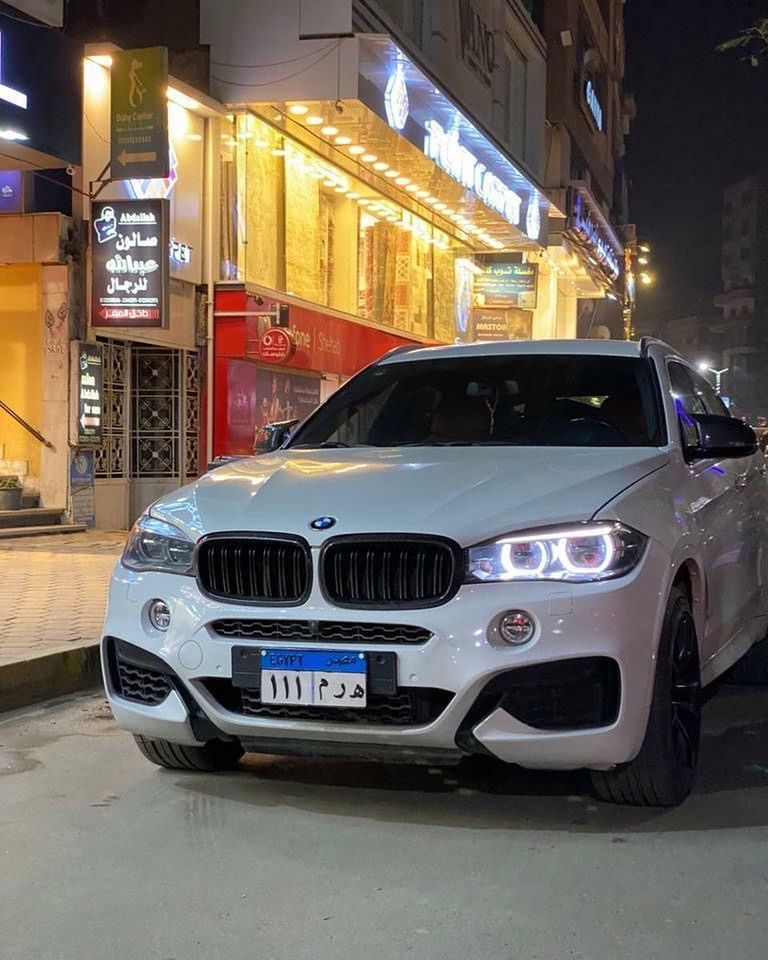carpl: (262, 671, 369, 706)
